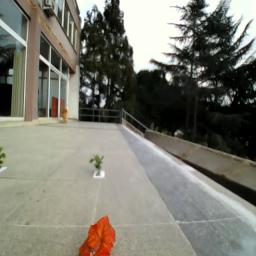herb: (91, 153, 106, 176)
wild: (79, 217, 119, 256)
